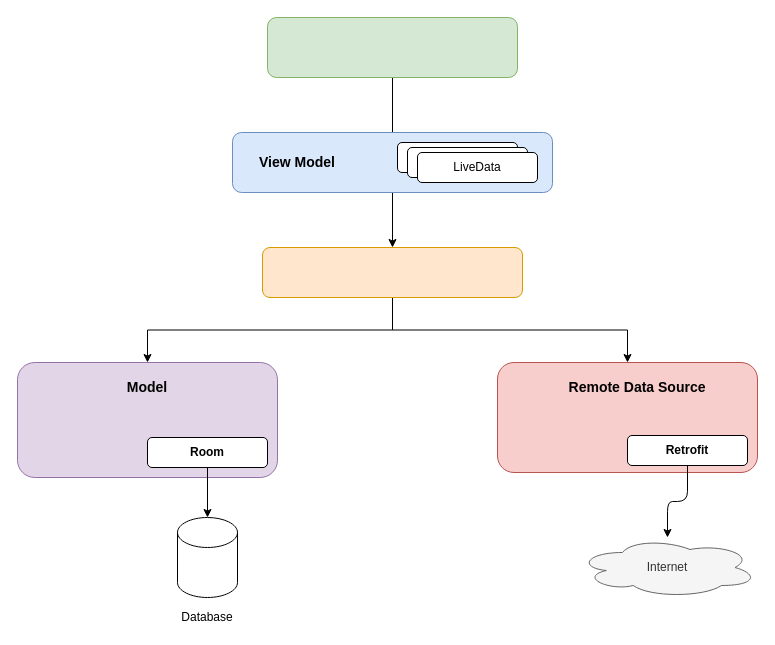
Some shapes in this 775 by 645 pixel diagram are drawn without their labels. The box of each missing label's shape, as (x1, y1, x2, y2) in pixels:
Activity / Fragment: (266, 16, 518, 78)
Repository: (262, 246, 522, 298)
